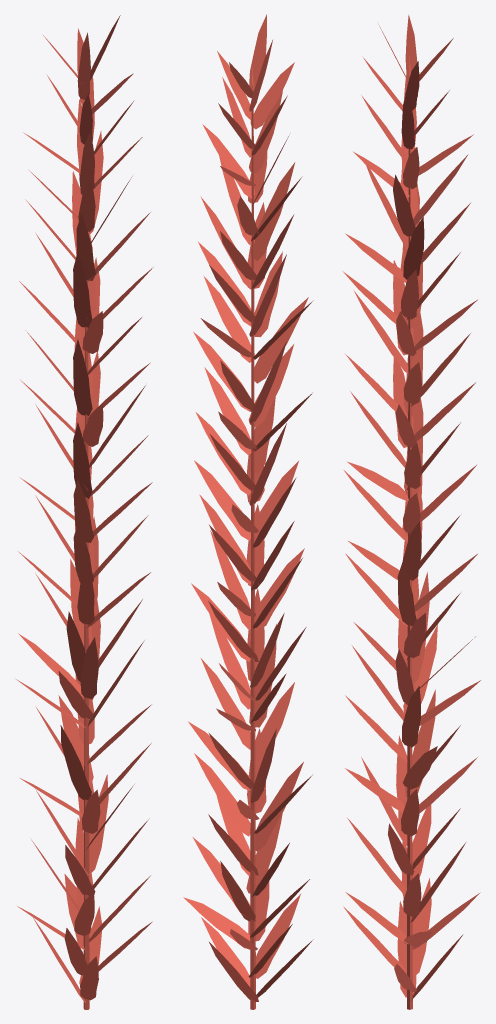
Rendered from kelp grouped 1.fbx.
3 renders of one model, left to right at view 1: azimuth 90°, elevation 25°; view 2: azimuth 150°, elevation 25°; view 3: azimuth 270°, elevation 25°, orthographic.
Parts seen in each view (by area): view 1: pCylinder120; view 2: pCylinder120; view 3: pCylinder120.
Part boxes in pixels (box(x1,y1,x2,y2)): pCylinder120: box(16, 15, 153, 1009); pCylinder120: box(183, 14, 313, 1009); pCylinder120: box(342, 14, 480, 1009).
Bounding box in the file's own units: 511 × 4167 × 533.
